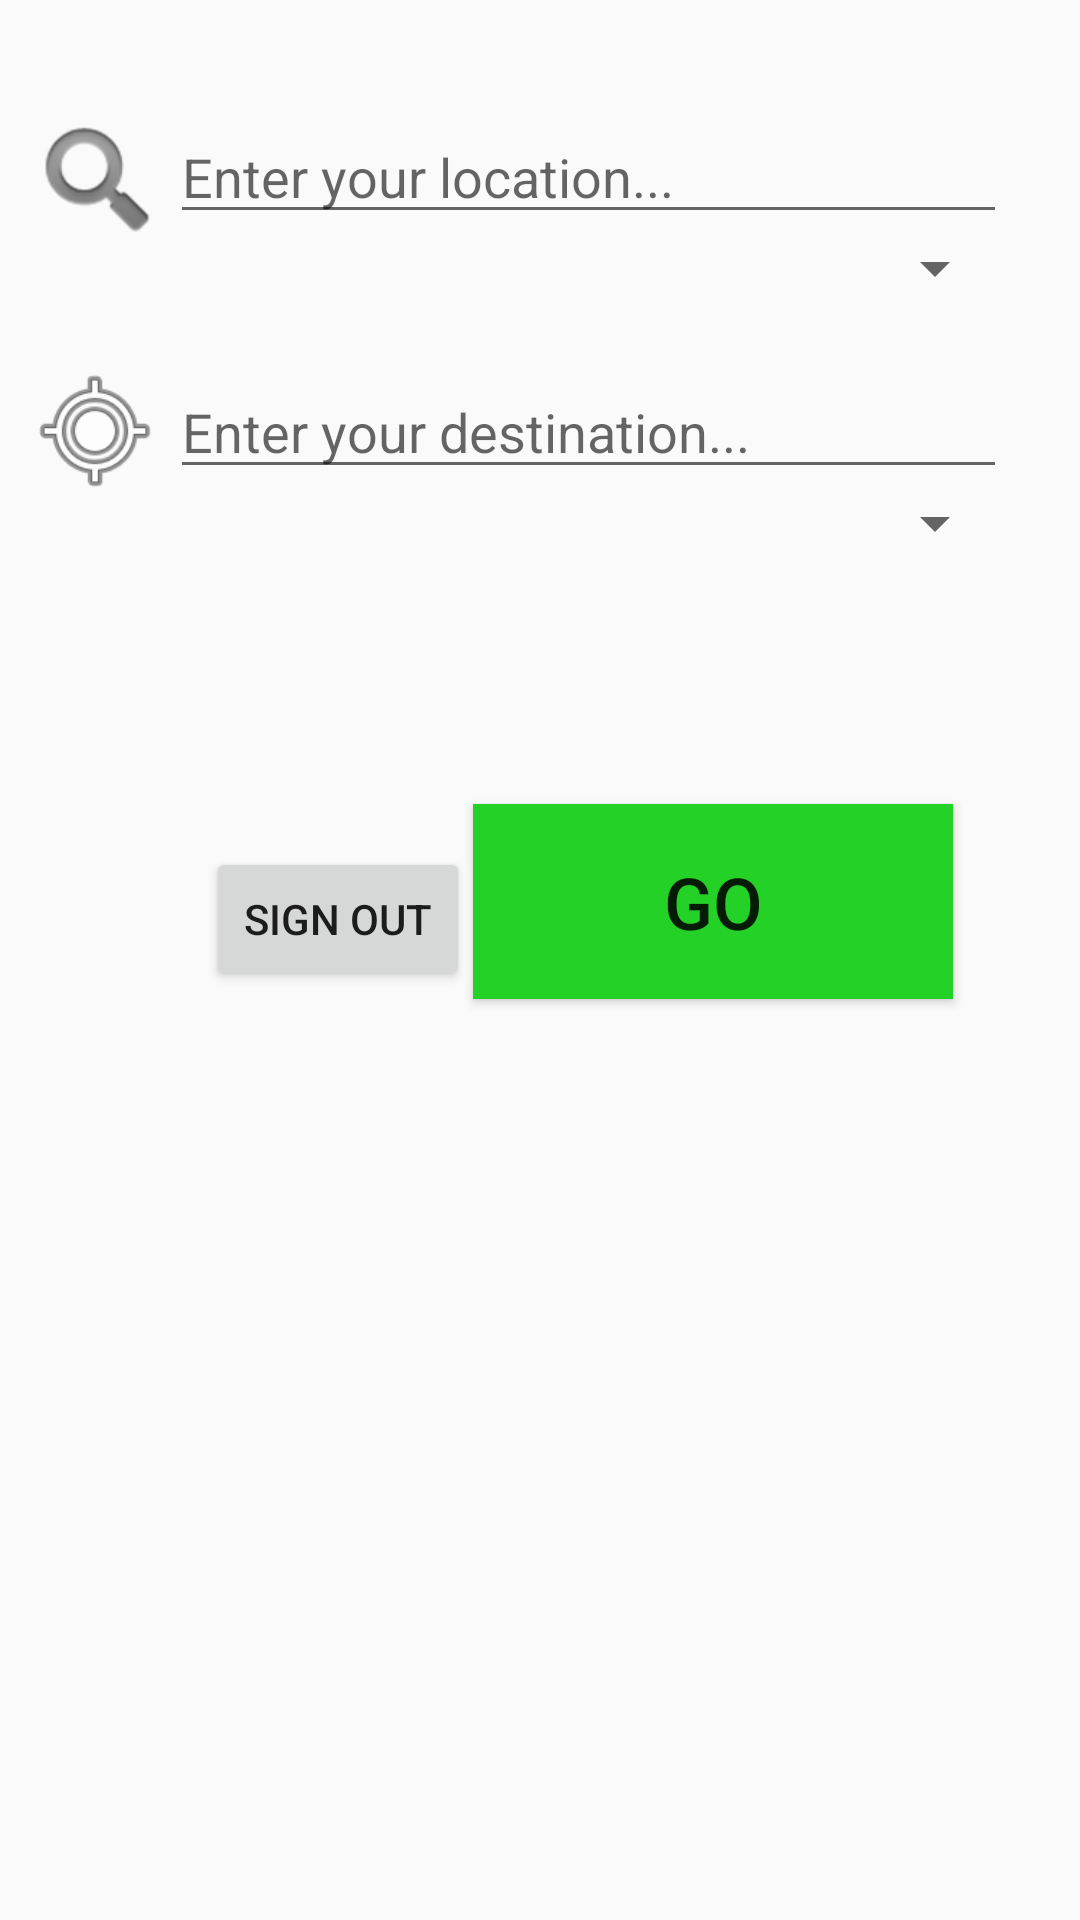

Screen size 1080 × 1920. Icon name, then its box in pixels as (x1, y1, x2, y2):
mylocation: (40, 376, 150, 486)
search category: (45, 127, 149, 231)
